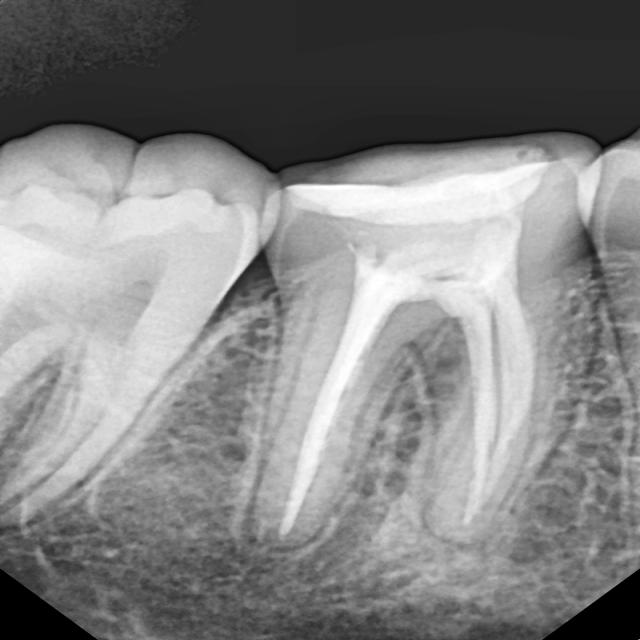RCT: (270, 228, 547, 545)
